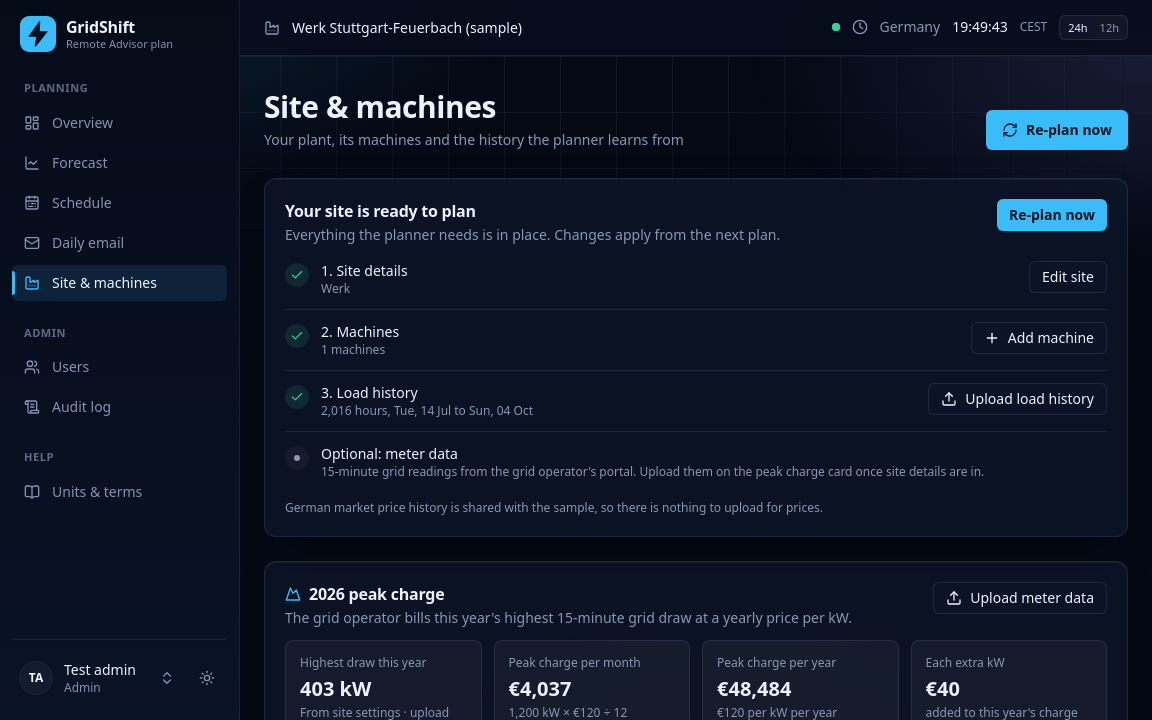
it: App › adds a machine with the form
The width and height of the screenshot is (1152, 720).
Click the button "Add machine" at (1039, 338), box 971,322 -> 1107,354
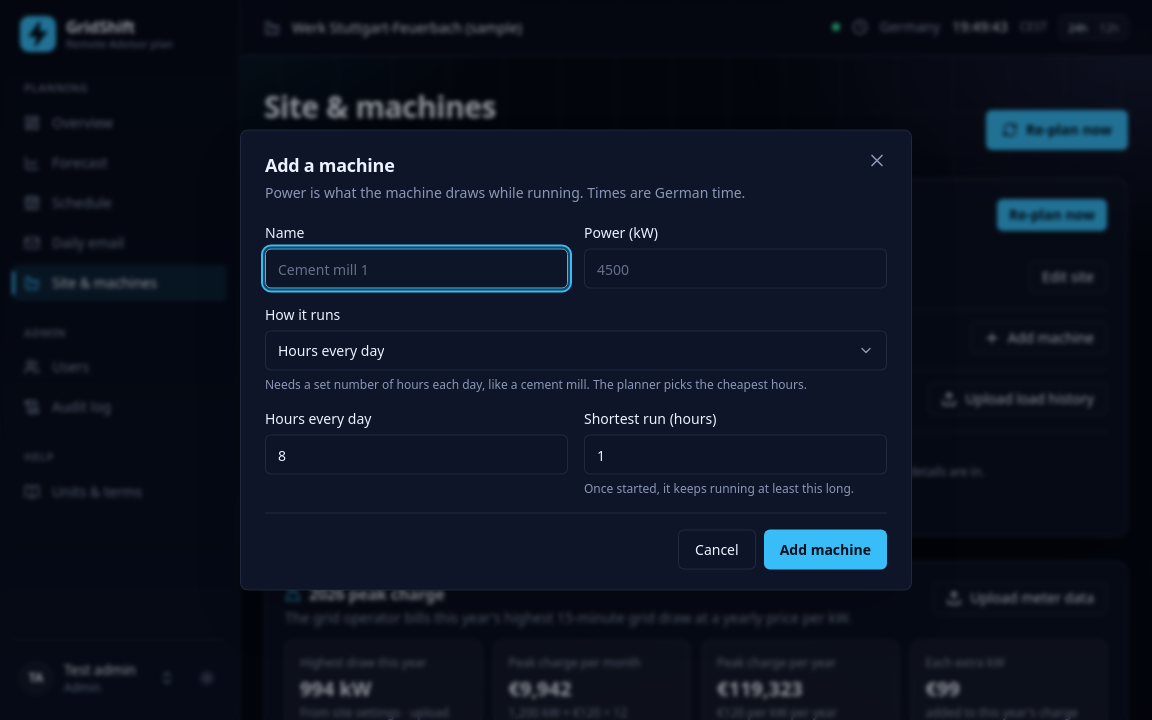
Type "Raw mill" into the field labelled "Name" at (416, 268), box 265,248 -> 568,288
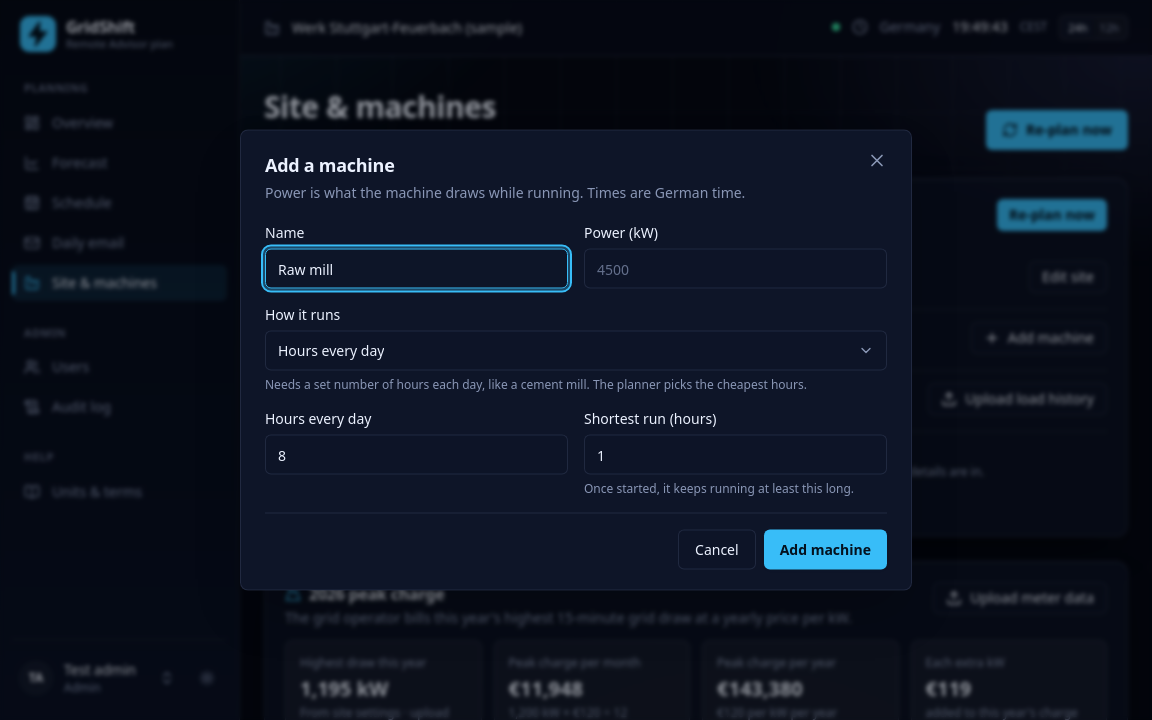
Type "4200" into the number field labelled "Power (kW)" at (736, 268), box 584,248 -> 887,288
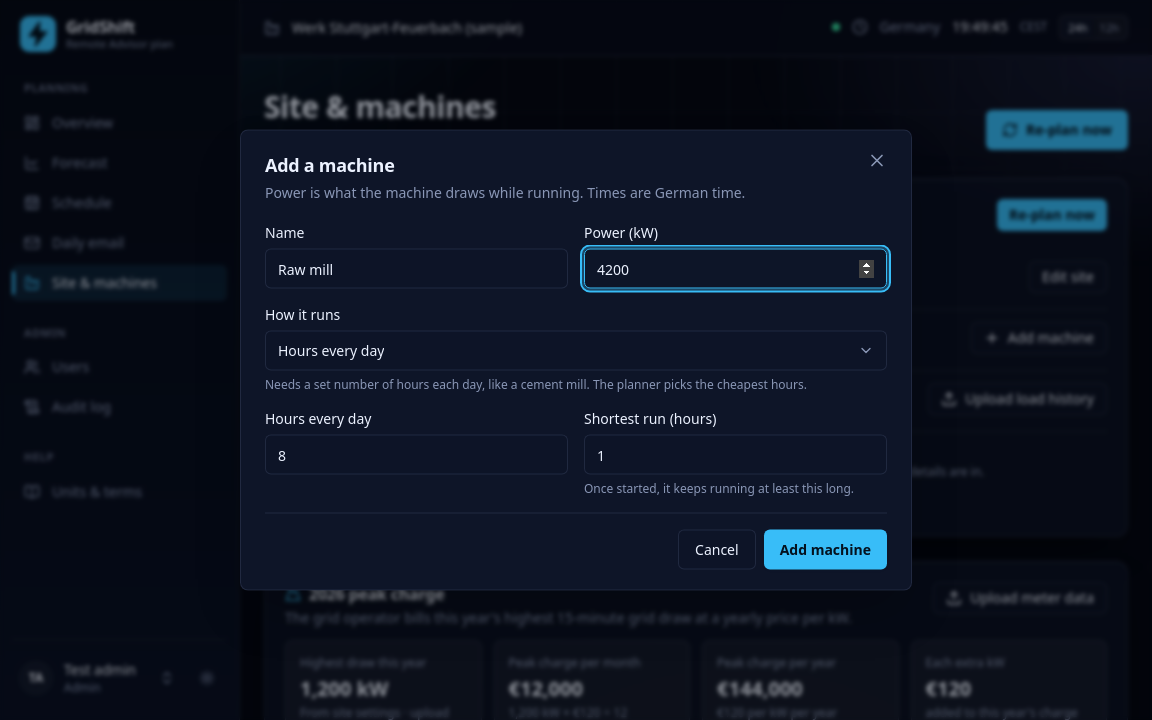
Replace the text in the number field labelled "Hours every day" with "18" at (416, 454), box 265,434 -> 568,474
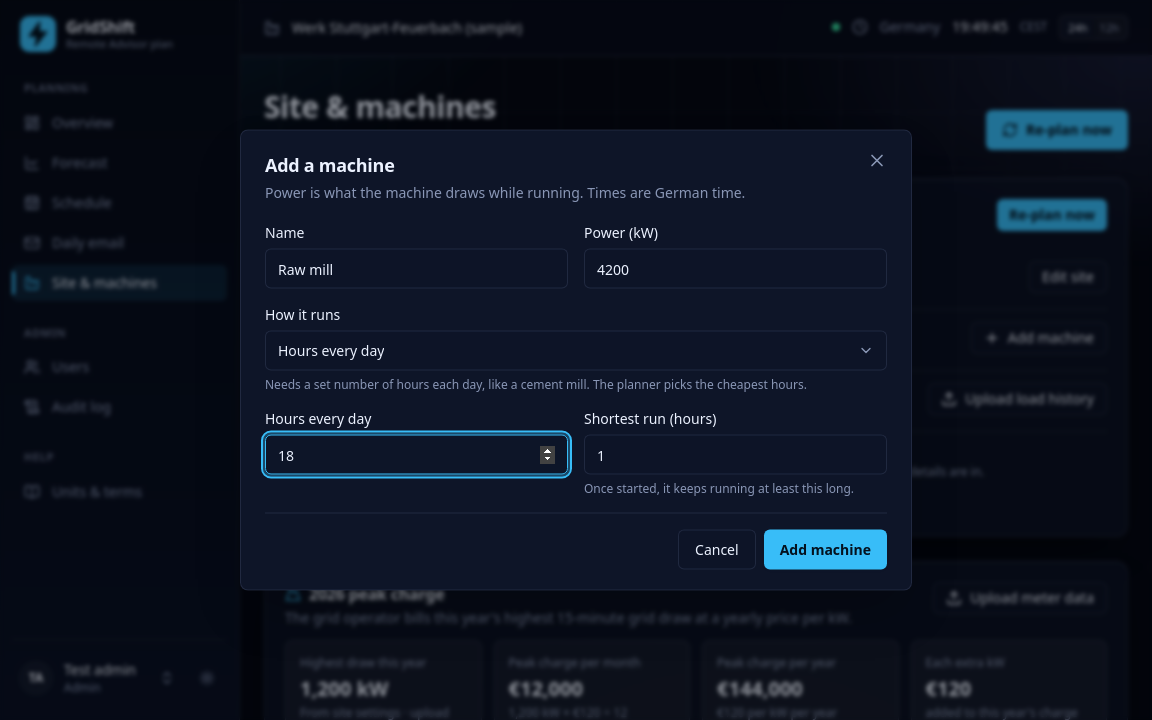
Replace the text in the number field labelled "Shortest run (hours)" with "4" at (736, 454), box 584,434 -> 887,474
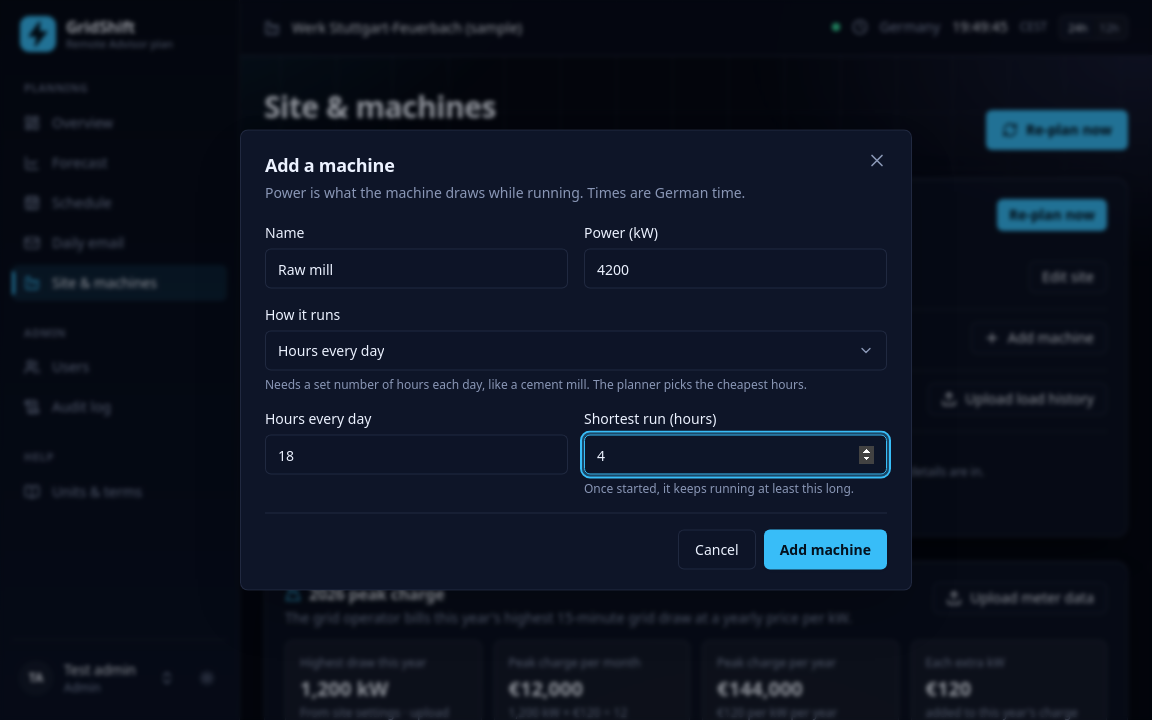
Click the button "Add machine" at (825, 550), box 764,530 -> 887,570
(page scrolled)
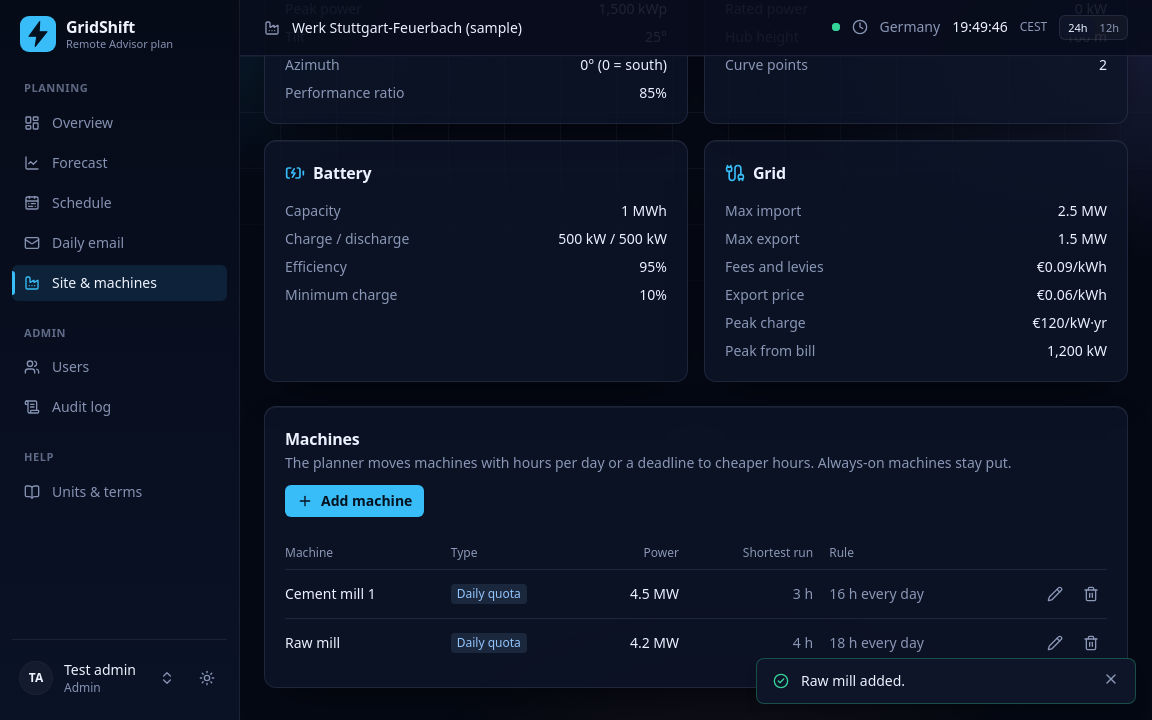
Expected: the text "Raw mill" is shown, 285,618 -> 451,666
